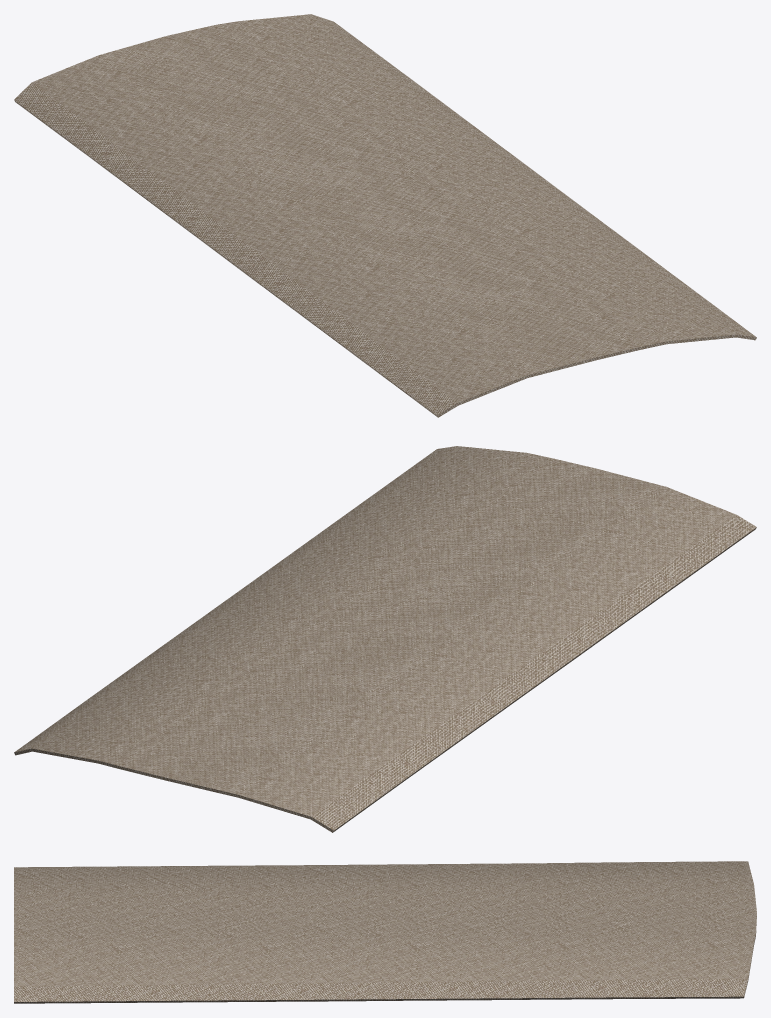
File: wall-and-ceiling-three.glb
The picture shows the model from 3 angles, top to bottom: view 1: azimuth 30°, elevation 25°; view 2: azimuth 150°, elevation 25°; view 3: azimuth 270°, elevation 25°; orthographic projection. The views are drawn at different scales.
Parts seen in each view (by area): view 1: Plane.001; view 2: Plane.001; view 3: Plane.001.
Part boxes in pixels (<box>): Plane.001: <box>14,14,756,417</box>; Plane.001: <box>14,446,756,832</box>; Plane.001: <box>14,861,756,1003</box>.
Size of the model in its own units: 1.41 by 0.1183 by 3.29.
1 material, 1 textured.
